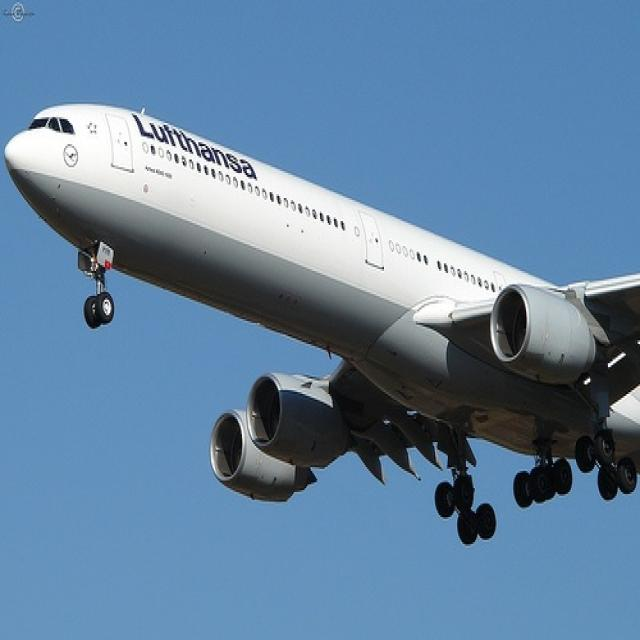aeroplane: (4, 98, 639, 548)
